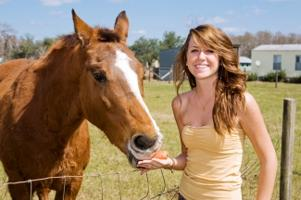person: (137, 23, 277, 199)
